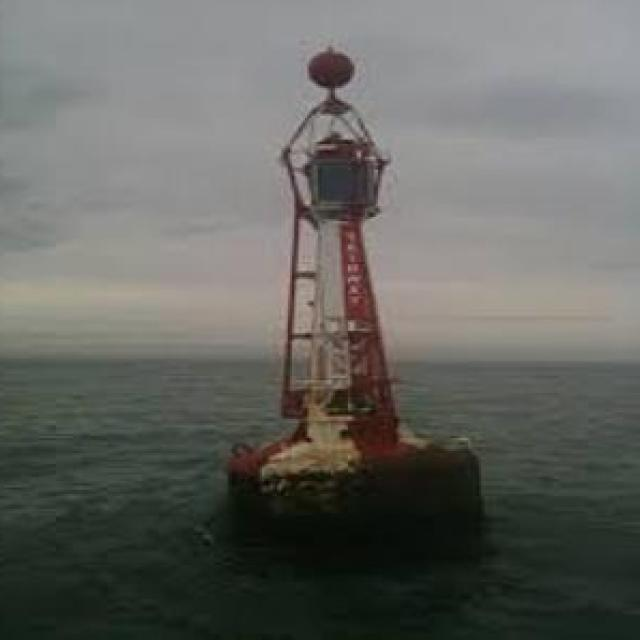buoy: (223, 39, 477, 519)
